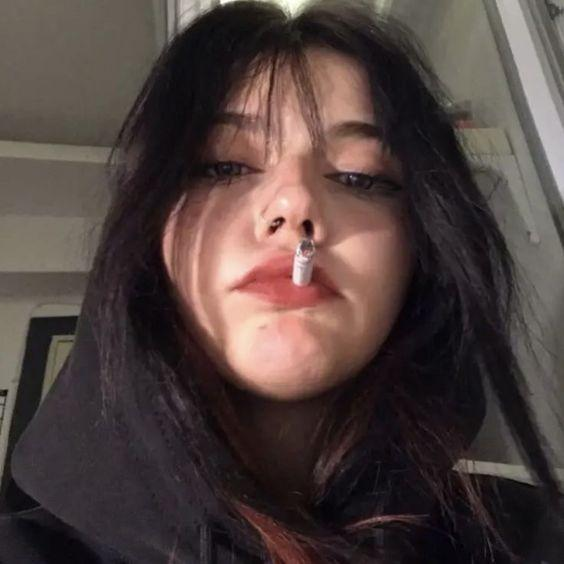cigarette: (292, 239, 315, 289)
